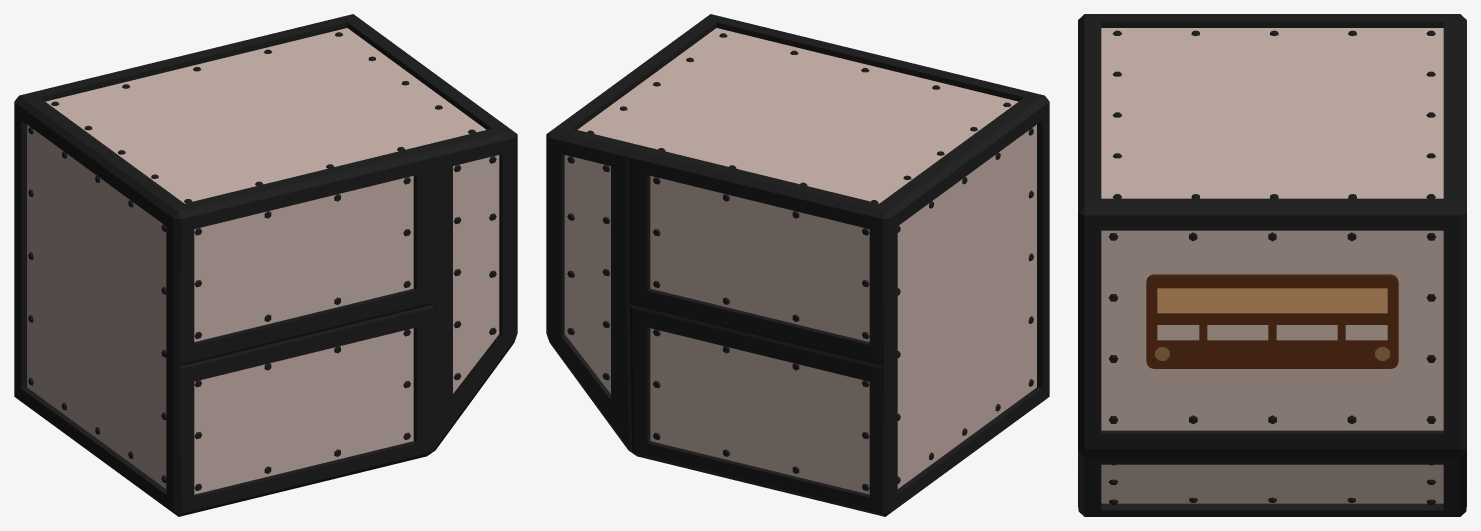
Rendered from airport-cargo-container-5.glb.
3 renders of one model, left to right at view 1: azimuth 30°, elevation 25°; view 2: azimuth 150°, elevation 25°; view 3: azimuth 270°, elevation 25°, orthographic. The views are drawn at different scales.
Visible parts, largest first — view 1: 05.Container5_AIRPORT_0; view 2: 05.Container5_AIRPORT_0; view 3: 05.Container5_AIRPORT_0.
Part boxes in pixels (x1,y1,x2,y2): 05.Container5_AIRPORT_0: [14, 14, 517, 516]; 05.Container5_AIRPORT_0: [546, 14, 1049, 516]; 05.Container5_AIRPORT_0: [1078, 14, 1466, 516].
Size of the model in its own units: 4.48 by 3.79 by 3.72.
1 material, 1 textured.
